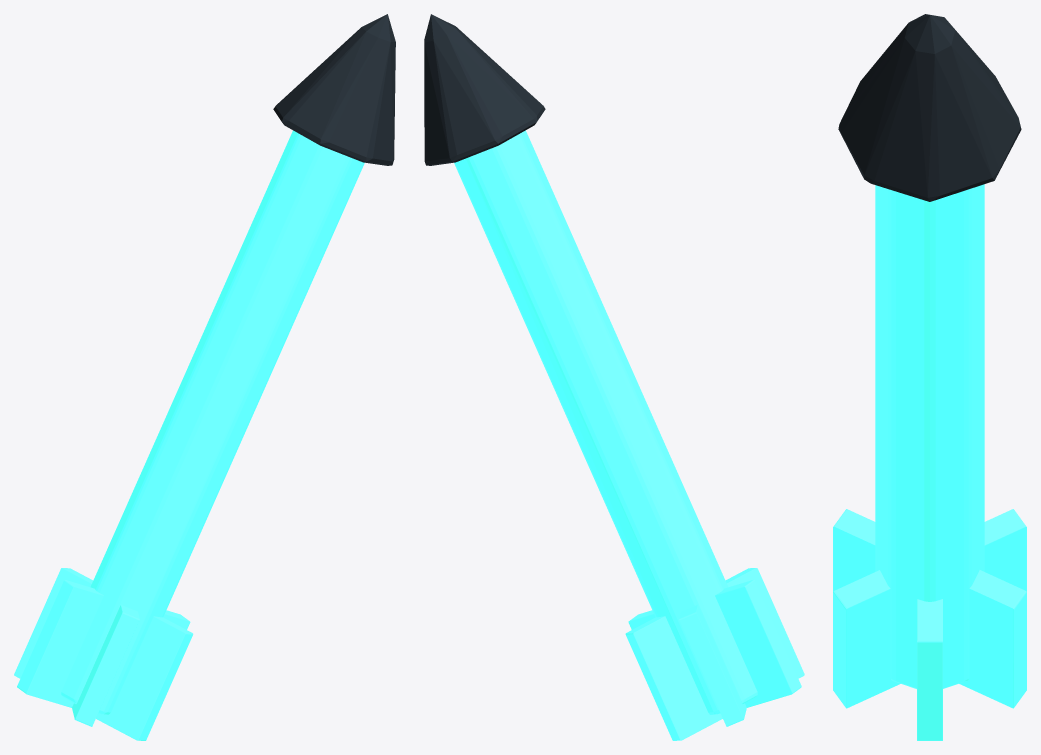
The model's file is item_tideDarts.glb.
3 views of the same model, side by side, from view 1: azimuth 30°, elevation 25°; view 2: azimuth 150°, elevation 25°; view 3: azimuth 270°, elevation 25° (orthographic). The views are drawn at different scales.
Parts seen in each view (by area): view 1: item_tideDarts_part_0, item_tideDarts_part_1, item_tideDarts_part_4, item_tideDarts_part_2, item_tideDarts_part_3; view 2: item_tideDarts_part_0, item_tideDarts_part_1, item_tideDarts_part_3, item_tideDarts_part_2, item_tideDarts_part_4; view 3: item_tideDarts_part_0, item_tideDarts_part_1, item_tideDarts_part_3, item_tideDarts_part_4, item_tideDarts_part_2.
Part boxes in pixels (x1,y1,x2,y2): item_tideDarts_part_0: [61, 130, 364, 714]; item_tideDarts_part_1: [273, 14, 395, 165]; item_tideDarts_part_4: [14, 568, 193, 740]; item_tideDarts_part_2: [17, 580, 190, 707]; item_tideDarts_part_3: [72, 605, 139, 726]; item_tideDarts_part_0: [454, 130, 757, 714]; item_tideDarts_part_1: [424, 14, 545, 165]; item_tideDarts_part_3: [625, 568, 804, 740]; item_tideDarts_part_2: [628, 579, 801, 707]; item_tideDarts_part_4: [679, 605, 746, 726]; item_tideDarts_part_0: [875, 184, 984, 688]; item_tideDarts_part_1: [838, 14, 1021, 201]; item_tideDarts_part_3: [833, 509, 1026, 708]; item_tideDarts_part_4: [833, 509, 1026, 708]; item_tideDarts_part_2: [917, 599, 942, 740].
Size of the model in its own units: 0.7881 by 1.32 by 0.2596.
